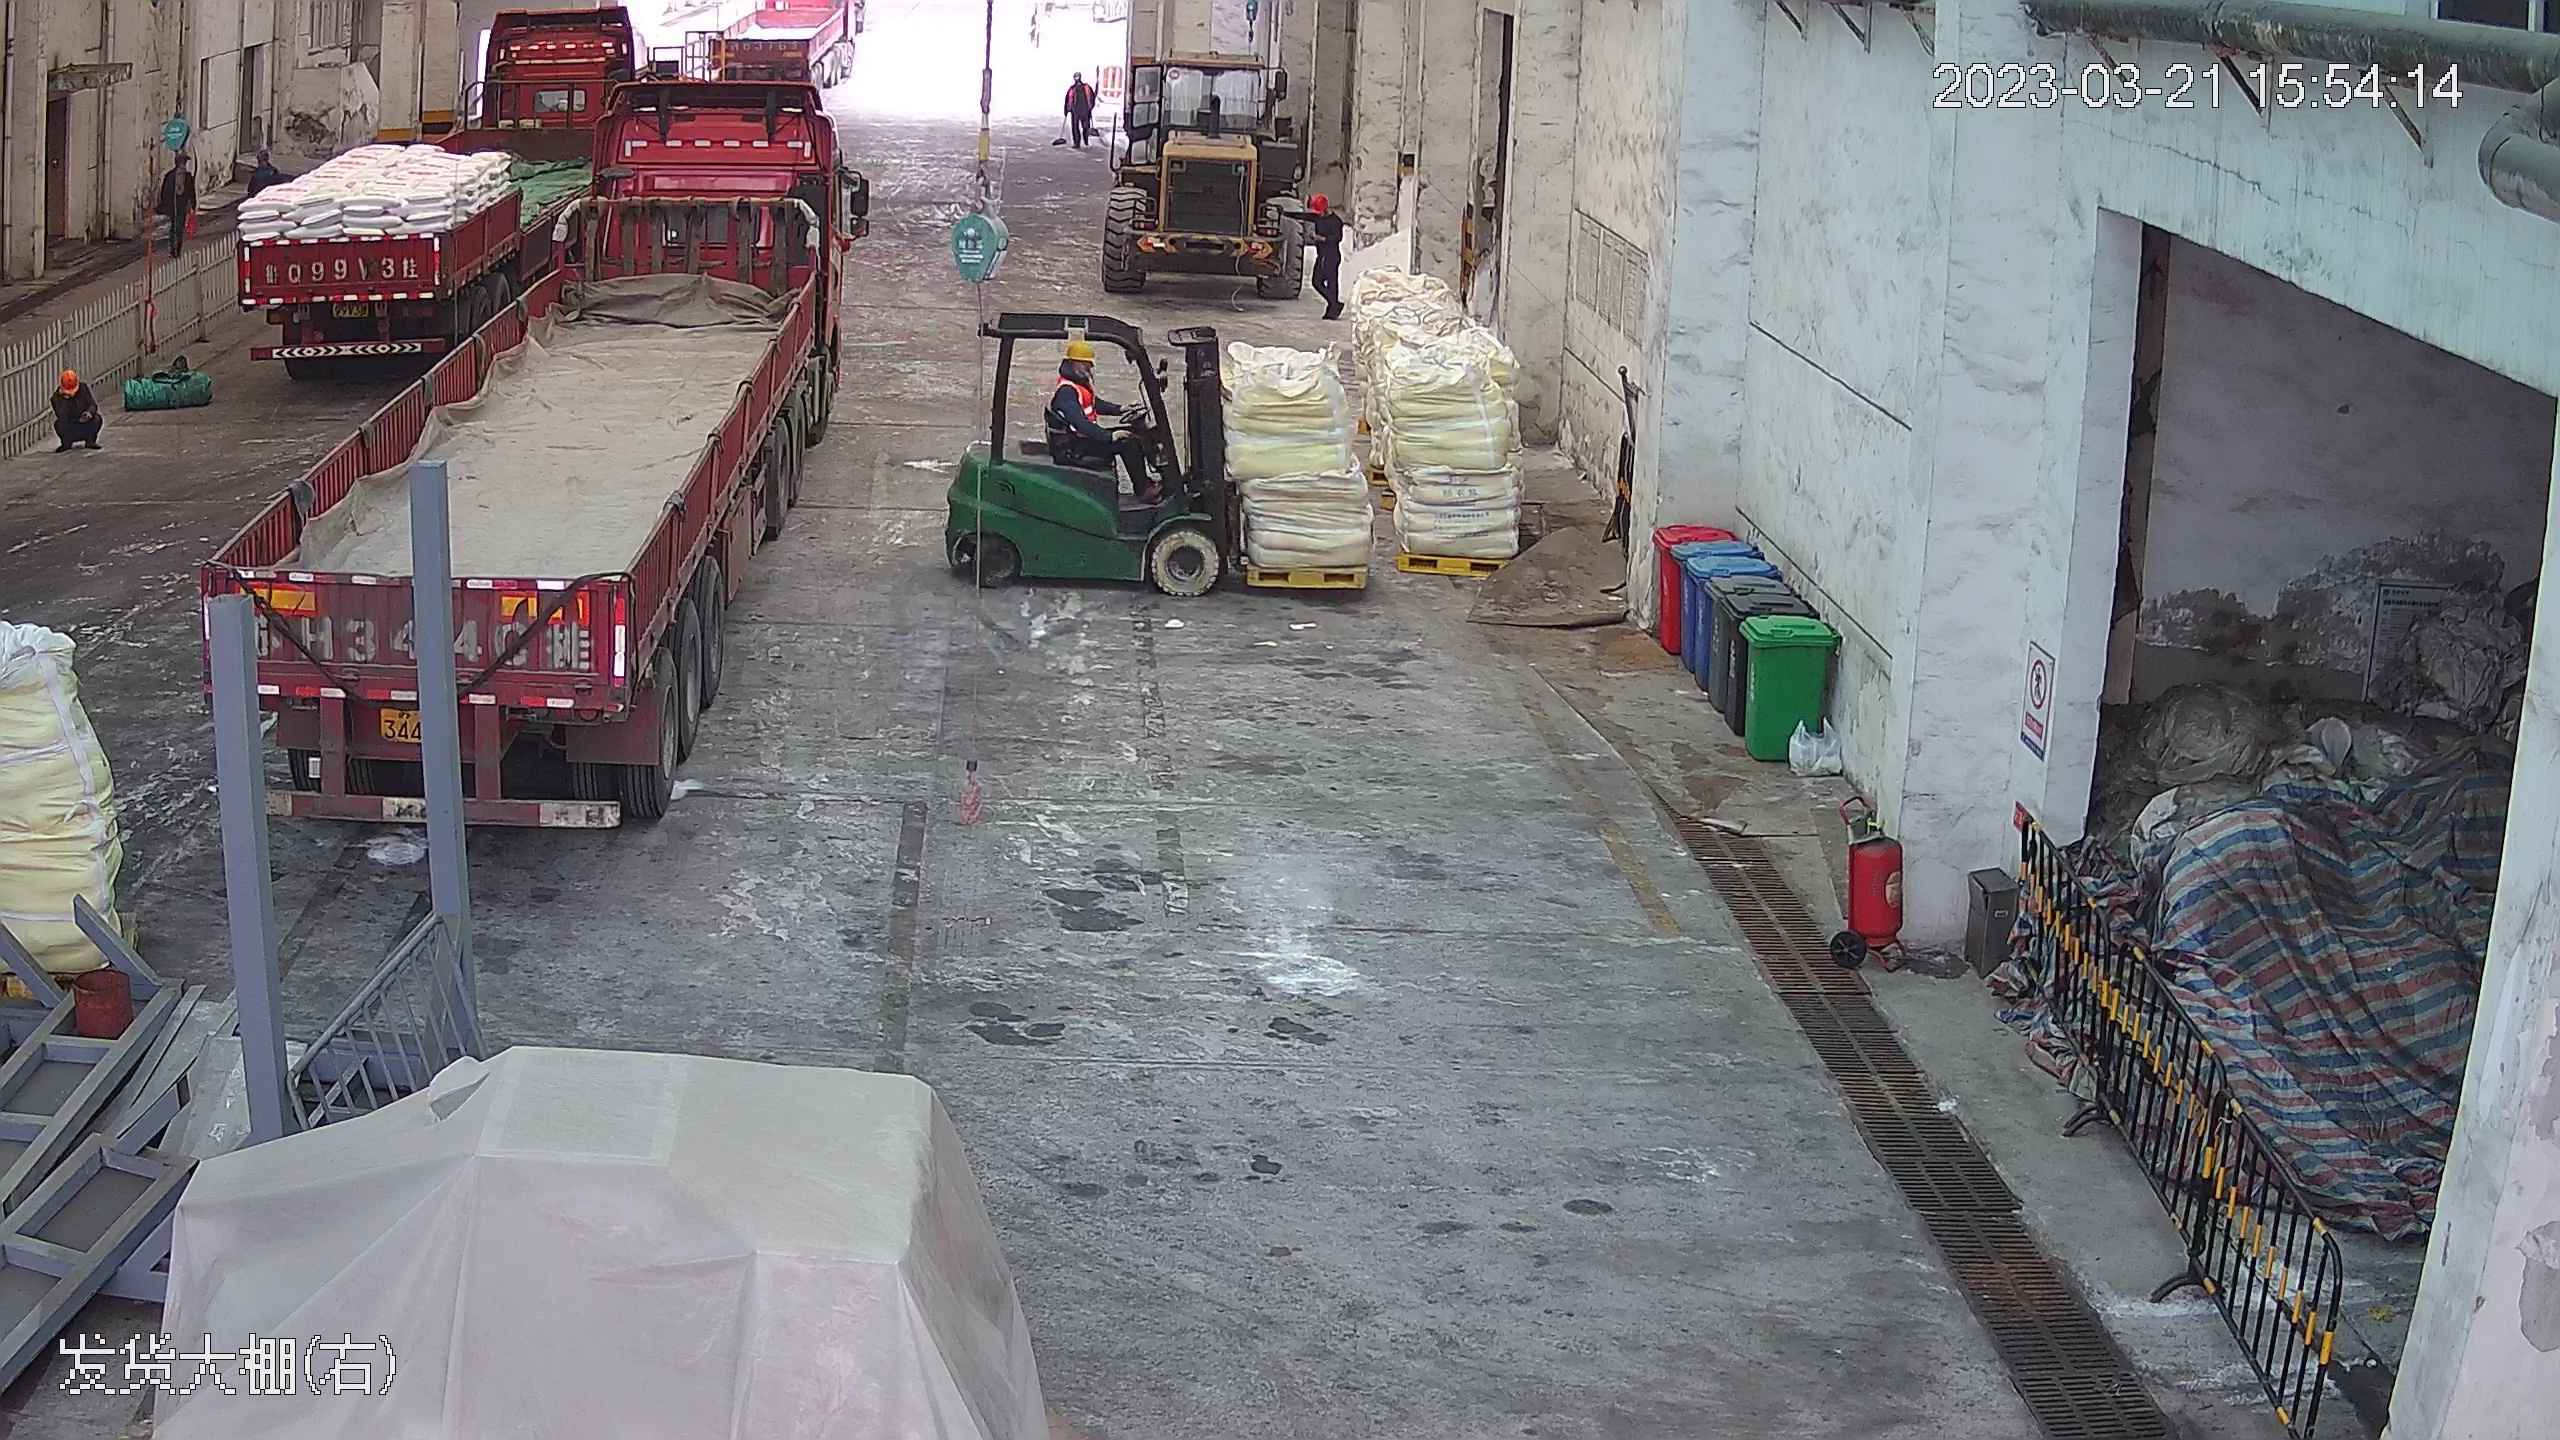head: (1050, 334, 1101, 406), (50, 362, 91, 419), (247, 149, 281, 191), (1308, 188, 1342, 230), (1066, 68, 1094, 98)
helmet: (1059, 334, 1094, 360), (1312, 187, 1337, 210), (55, 364, 79, 386), (254, 149, 270, 162), (1071, 73, 1083, 82)
people: (1051, 332, 1161, 500), (1307, 185, 1346, 316), (44, 362, 96, 453), (162, 145, 196, 241), (1062, 64, 1099, 147)
truck: (212, 16, 856, 843), (217, 10, 610, 371)
